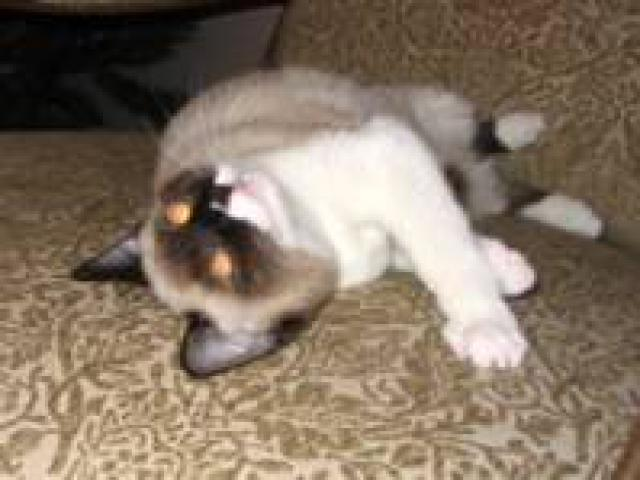cat: (72, 59, 564, 377)
